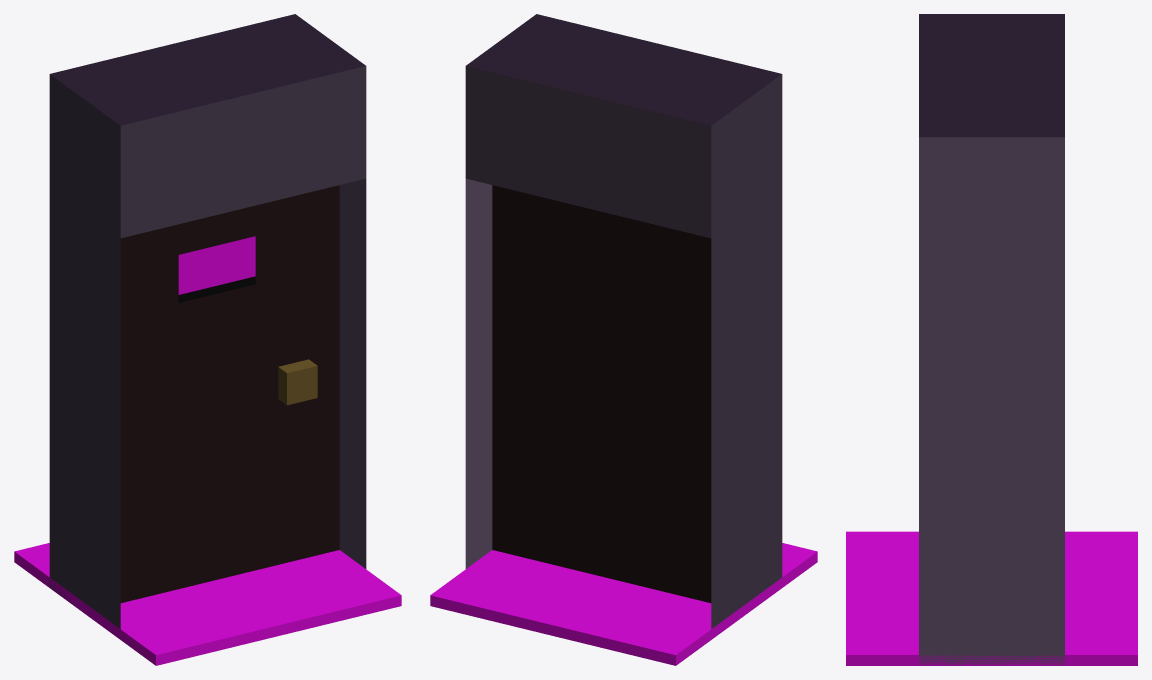
The model's file is doorKeycard_pink.dae.
The picture shows the model from 3 angles, left to right: view 1: azimuth 30°, elevation 25°; view 2: azimuth 150°, elevation 25°; view 3: azimuth 270°, elevation 25°; orthographic projection. The views are drawn at different scales.
Visible parts, largest first — view 1: frame_MSH, door_MSH; view 2: frame_MSH, door_MSH; view 3: frame_MSH.
Part boxes in pixels (x1,y1,x2,y2): frame_MSH: (14, 14, 401, 665); door_MSH: (120, 185, 339, 602); frame_MSH: (430, 14, 817, 665); door_MSH: (492, 185, 711, 602); frame_MSH: (846, 14, 1137, 665).
Size of the model in its own units: 1 by 2 by 1.
